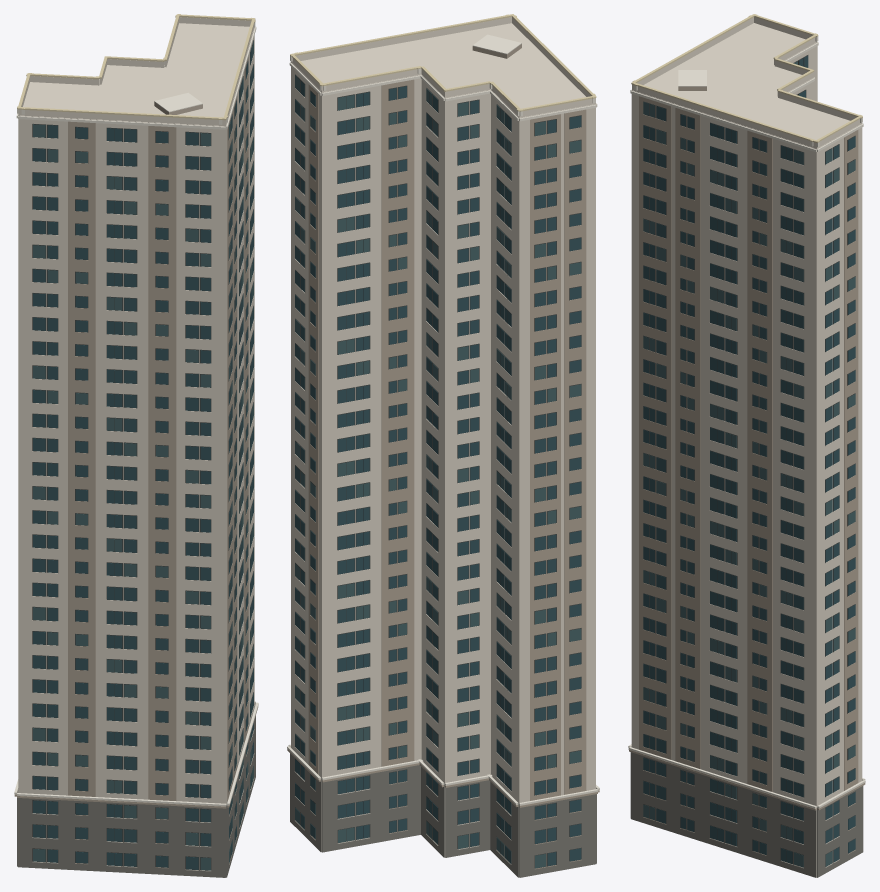
The model's file is bespoke-raemian-prestige-128.glb.
3 renders of one model, left to right at view 1: azimuth 30°, elevation 25°; view 2: azimuth 150°, elevation 25°; view 3: azimuth 270°, elevation 25°, orthographic. The views are drawn at different scales.
Parts seen in each view (by area): view 1: Prestige_warm_ivory_rendered_wall013, Prestige_wide_taupe_pilasters013, Prestige_recessed_blue_green_window013, Prestige_dark_bronze_thin_window_frame013, Prestige_dark_brown_grey_stone_base013, Prestige_muted_green_window_pair013, Prestige_pale_limestone_band013, Prestige_cream_gold_crown_coping013; view 2: Prestige_warm_ivory_rendered_wall013, Prestige_wide_taupe_pilasters013, Prestige_recessed_blue_green_window013, Prestige_dark_bronze_thin_window_frame013, Prestige_dark_brown_grey_stone_base013, Prestige_muted_green_window_pair013, Prestige_pale_limestone_band013, Prestige_cream_gold_crown_coping013; view 3: Prestige_warm_ivory_rendered_wall013, Prestige_wide_taupe_pilasters013, Prestige_recessed_blue_green_window013, Prestige_dark_bronze_thin_window_frame013, Prestige_dark_brown_grey_stone_base013, Prestige_muted_green_window_pair013, Prestige_pale_limestone_band013, Prestige_cream_gold_crown_coping013.
Boxes of the visible parts, x1,y1,x2,y2 form: Prestige_warm_ivory_rendered_wall013: (18,17,254,871); Prestige_wide_taupe_pilasters013: (14,56,258,868); Prestige_recessed_blue_green_window013: (33,47,253,869); Prestige_dark_bronze_thin_window_frame013: (32,40,253,870); Prestige_dark_brown_grey_stone_base013: (17,705,255,877); Prestige_muted_green_window_pair013: (33,41,253,870); Prestige_pale_limestone_band013: (14,17,258,806); Prestige_cream_gold_crown_coping013: (17,14,255,120); Prestige_warm_ivory_rendered_wall013: (291,17,595,876); Prestige_wide_taupe_pilasters013: (287,44,599,869); Prestige_recessed_blue_green_window013: (295,81,581,866); Prestige_dark_bronze_thin_window_frame013: (295,74,581,868); Prestige_dark_brown_grey_stone_base013: (290,753,596,877); Prestige_muted_green_window_pair013: (295,75,581,868); Prestige_pale_limestone_band013: (287,34,599,805); Prestige_cream_gold_crown_coping013: (290,14,596,111); Prestige_warm_ivory_rendered_wall013: (631,17,862,877); Prestige_wide_taupe_pilasters013: (628,86,865,855); Prestige_recessed_blue_green_window013: (643,55,855,863); Prestige_dark_bronze_thin_window_frame013: (643,55,855,867); Prestige_dark_brown_grey_stone_base013: (630,752,863,877); Prestige_muted_green_window_pair013: (643,61,855,867); Prestige_pale_limestone_band013: (628,36,865,808); Prestige_cream_gold_crown_coping013: (631,14,862,142).
Bounding box in the file's own units: 33.3 × 87.7 × 25.66.
